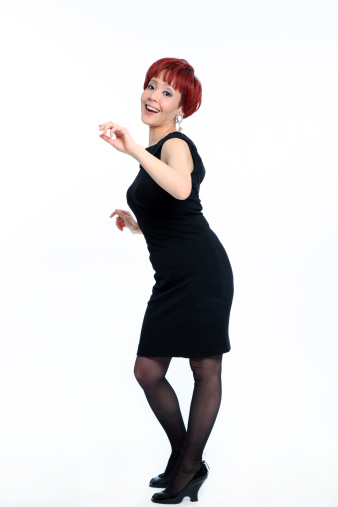em pe: (92, 43, 242, 502)
